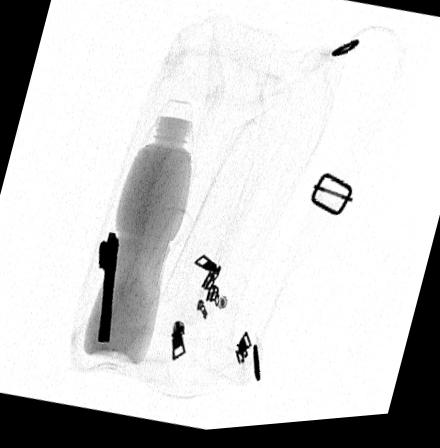Gun: (97, 233, 120, 345)
